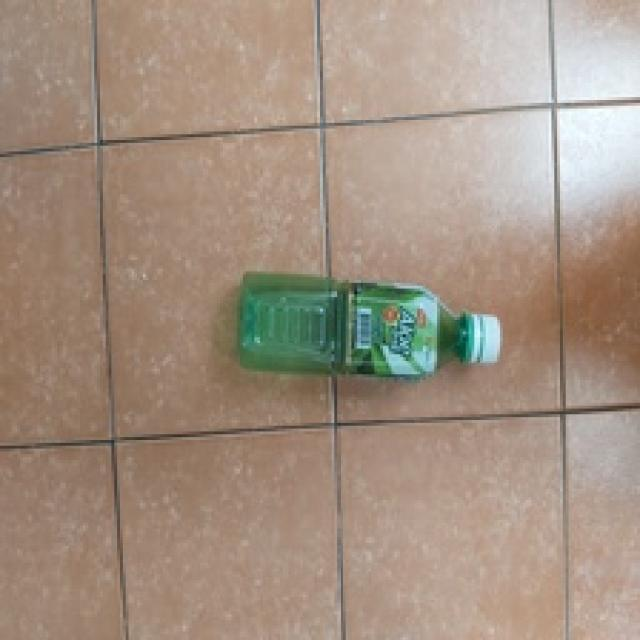garbage: (195, 236, 542, 386)
